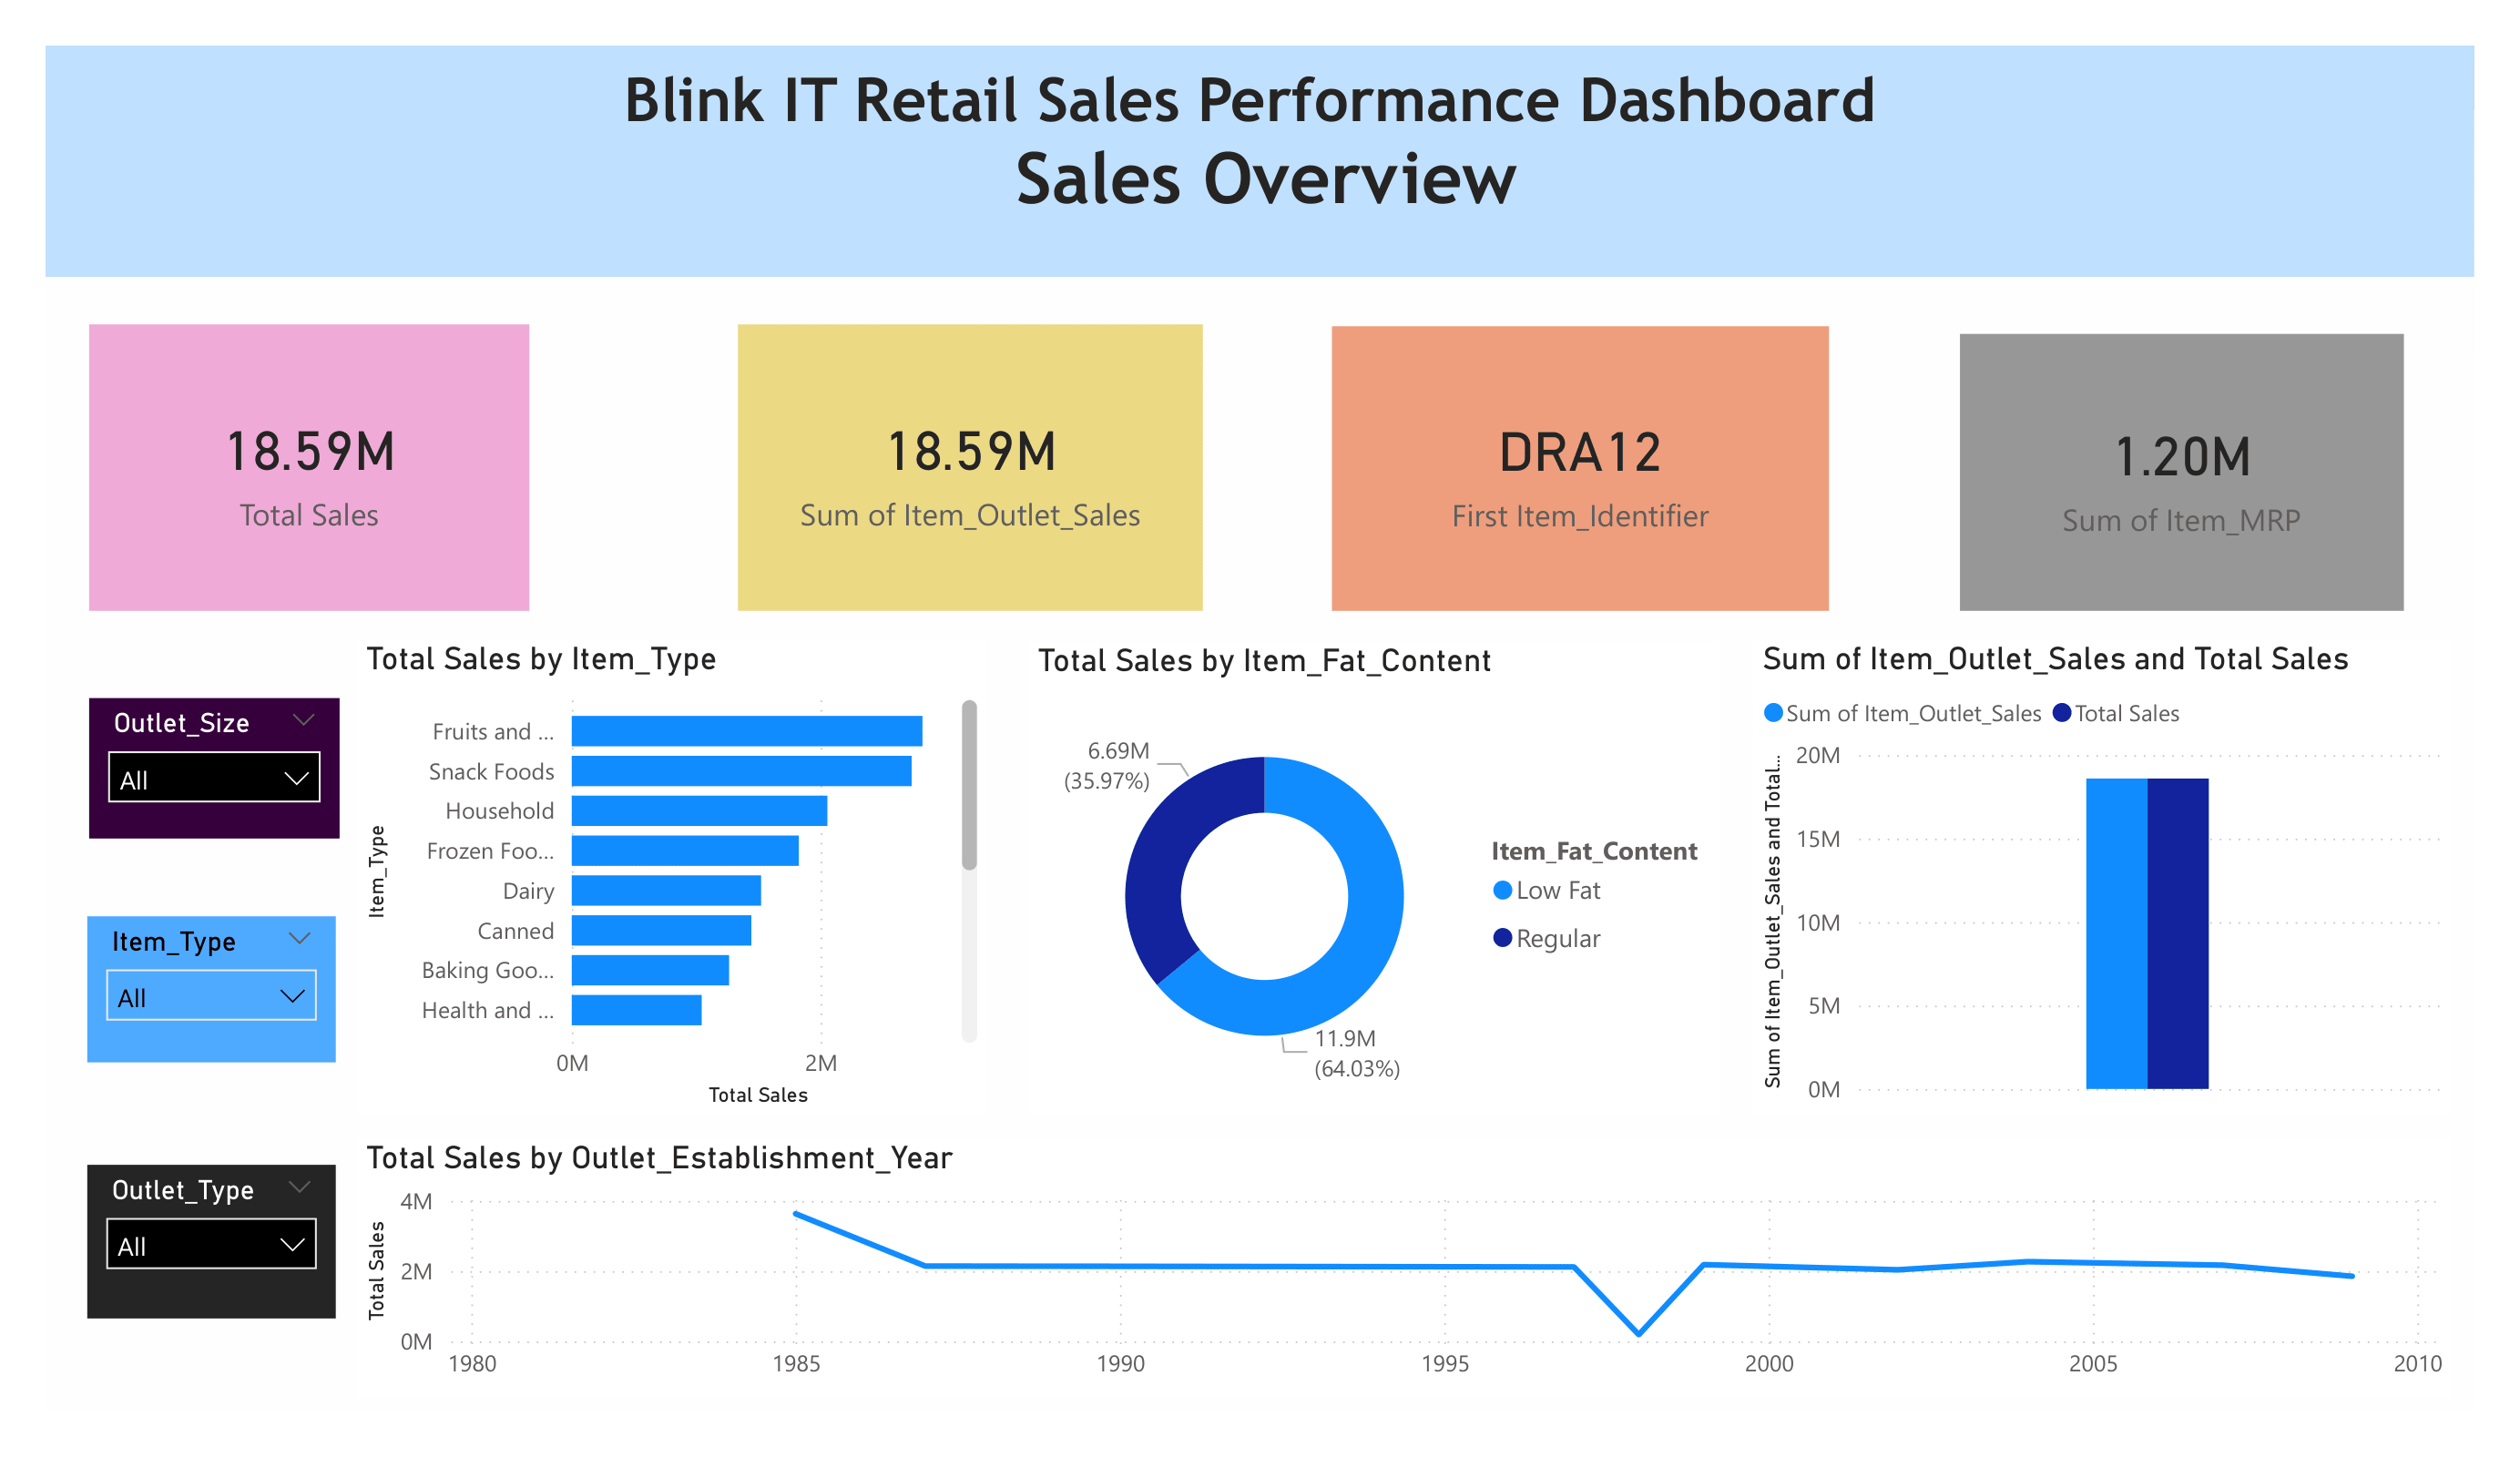

The page's visual inventory and layout, read from the dashboard file:
{"tool":"powerbi","page":{"name":"Page 1","canvas":[1280,720],"ordinal":0},"visuals":[{"type":"textbox","box":[0,0,1280.2,121.9],"z":0},{"type":"card","fields":{"Values":["Tableau BlinkIT Grocery Project.Total Sales"]},"box":[22.9,146.9,232.3,151],"z":2},{"type":"card","fields":{"Values":["Sum(Tableau BlinkIT Grocery Project.Item_Outlet_Sales)"]},"box":[364.6,146.9,245.8,151],"z":3},{"type":"card","fields":{"Values":["Min(Tableau BlinkIT Grocery Project.Item_Identifier)"]},"box":[678.1,147.9,261.5,150],"z":4},{"type":"card","fields":{"Values":["Sum(Tableau BlinkIT Grocery Project.Item_MRP)"]},"box":[1009.4,152.1,233.3,145.8],"z":5},{"type":"clusteredBarChart","fields":{"Y":["Tableau BlinkIT Grocery Project.Total Sales"],"Category":["Tableau BlinkIT Grocery Project.Item_Type"]},"box":[163.5,312.5,332.3,251],"z":6},{"type":"donutChart","fields":{"Category":["Tableau BlinkIT Grocery Project.Item_Fat_Content"],"Y":["Tableau BlinkIT Grocery Project.Total Sales"]},"box":[517.7,313.5,364.6,250],"z":7},{"type":"clusteredColumnChart","fields":{"Y":["Sum(Tableau BlinkIT Grocery Project.Item_Outlet_Sales)","Tableau BlinkIT Grocery Project.Total Sales"]},"box":[900,312.5,367.7,251],"z":8},{"type":"lineChart","fields":{"Y":["Tableau BlinkIT Grocery Project.Total Sales"],"Category":["Tableau BlinkIT Grocery Project.Outlet_Establishment_Year"]},"box":[163.8,575.5,1104.3,137.2],"z":9},{"type":"slicer","fields":{"Values":["Tableau BlinkIT Grocery Project.Outlet_Size"]},"box":[22.9,343.8,132.3,74],"z":10},{"type":"slicer","fields":{"Values":["Tableau BlinkIT Grocery Project.Item_Type"]},"box":[21.9,459.4,131.2,77.1],"z":11},{"type":"slicer","fields":{"Values":["Tableau BlinkIT Grocery Project.Outlet_Type"]},"box":[21.9,589.6,131.2,81.2],"z":12}]}

Visuals, with their boxes on the page's 1280x720 design canvas (x1, y1, x2, y2). These are canvas units, not pixel positions in the 2520x1457 screenshot, which may show the page scaled, cropped or inside an application window:
textbox: <region>0, 0, 1280, 122</region>
card - Tableau BlinkIT Grocery Project.Total Sales: <region>23, 147, 255, 298</region>
card - Sum(Tableau BlinkIT Grocery Project.Item_Outlet_Sales): <region>365, 147, 610, 298</region>
card - Min(Tableau BlinkIT Grocery Project.Item_Identifier): <region>678, 148, 940, 298</region>
card - Sum(Tableau BlinkIT Grocery Project.Item_MRP): <region>1009, 152, 1243, 298</region>
clusteredBarChart - Tableau BlinkIT Grocery Project.Total Sales x Tableau BlinkIT Grocery Project.Item_Type: <region>164, 312, 496, 564</region>
donutChart - Tableau BlinkIT Grocery Project.Item_Fat_Content x Tableau BlinkIT Grocery Project.Total Sales: <region>518, 314, 882, 564</region>
clusteredColumnChart - Sum(Tableau BlinkIT Grocery Project.Item_Outlet_Sales) x Tableau BlinkIT Grocery Project.Total Sales: <region>900, 312, 1268, 564</region>
lineChart - Tableau BlinkIT Grocery Project.Total Sales x Tableau BlinkIT Grocery Project.Outlet_Establishment_Year: <region>164, 576, 1268, 713</region>
slicer - Tableau BlinkIT Grocery Project.Outlet_Size: <region>23, 344, 155, 418</region>
slicer - Tableau BlinkIT Grocery Project.Item_Type: <region>22, 459, 153, 536</region>
slicer - Tableau BlinkIT Grocery Project.Outlet_Type: <region>22, 590, 153, 671</region>
